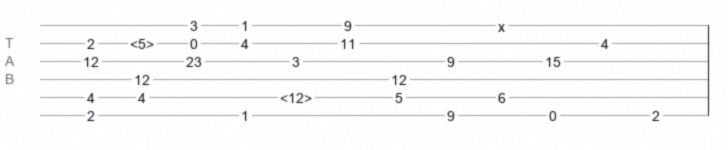0: (190, 36, 198, 46), (549, 108, 557, 118)
1: (241, 18, 249, 28), (241, 108, 249, 118)
11: (340, 36, 356, 46)
12: (83, 54, 99, 64), (134, 72, 150, 82), (391, 72, 407, 82)
15: (545, 54, 561, 64)
2: (87, 108, 95, 118), (87, 36, 95, 46), (652, 108, 660, 118)
23: (186, 54, 202, 64)
3: (190, 18, 198, 28), (292, 54, 300, 64)
4: (87, 90, 95, 100), (138, 90, 146, 100), (241, 36, 249, 46), (601, 36, 609, 46)
5: (395, 90, 403, 100)
6: (498, 90, 506, 100)
9: (344, 18, 352, 28), (447, 108, 455, 118), (447, 54, 455, 64)
harmonic: (280, 90, 312, 100), (130, 36, 154, 46)
x: (498, 19, 505, 27)
